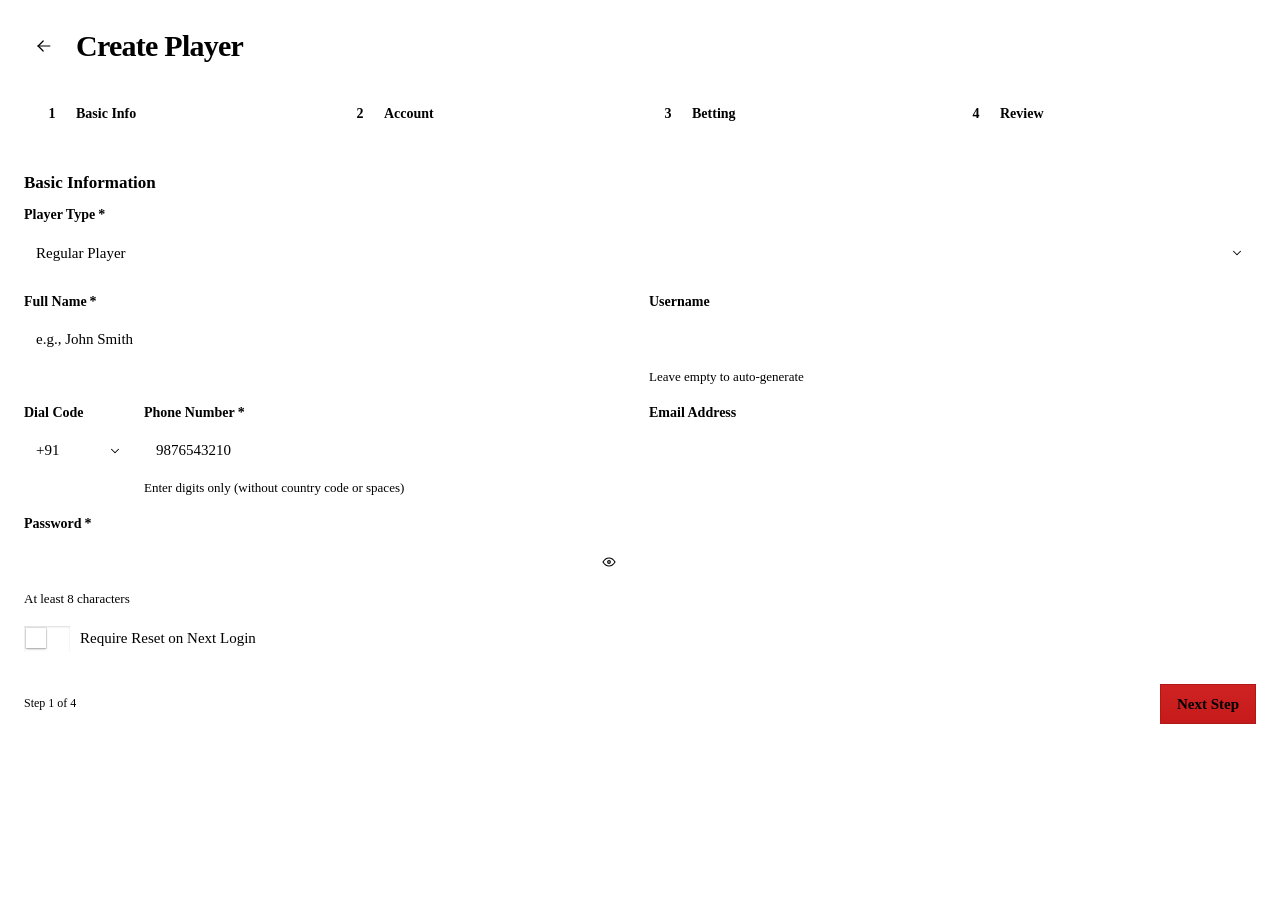
Test case: complete Player Create workflow › phone is marked invalid only for a real phone error in admin mode
Earlier steps of the test are not shown.
Later steps or results of the test are not shown.
Replace the text in the field labelled "Phone Number" with "12": (388, 451) [144,429,631,473]
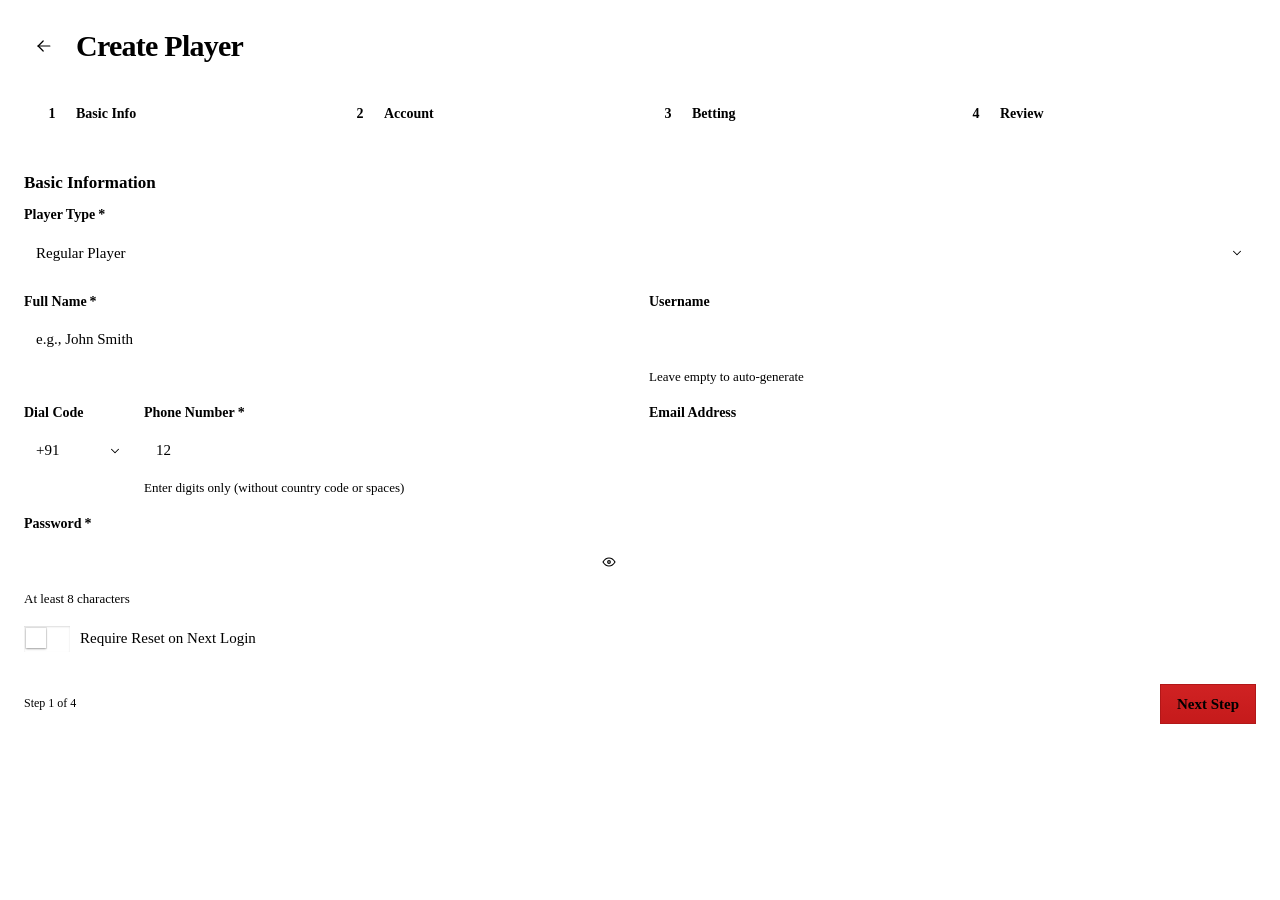
Leave the field labelled "Phone Number", box [144,429,631,473]
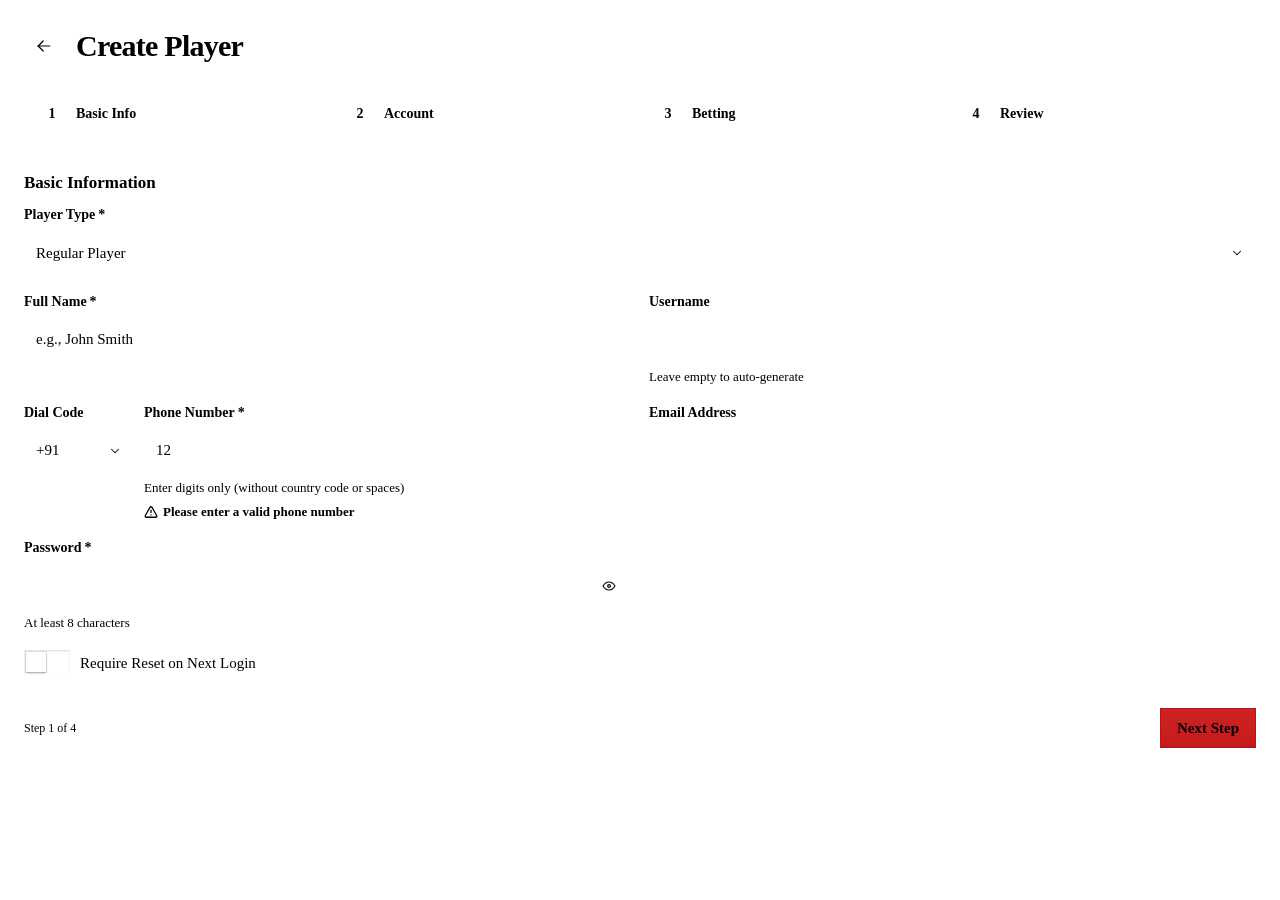
Now the text "Please enter a valid phone number" is shown, box [163,504,354,519]
